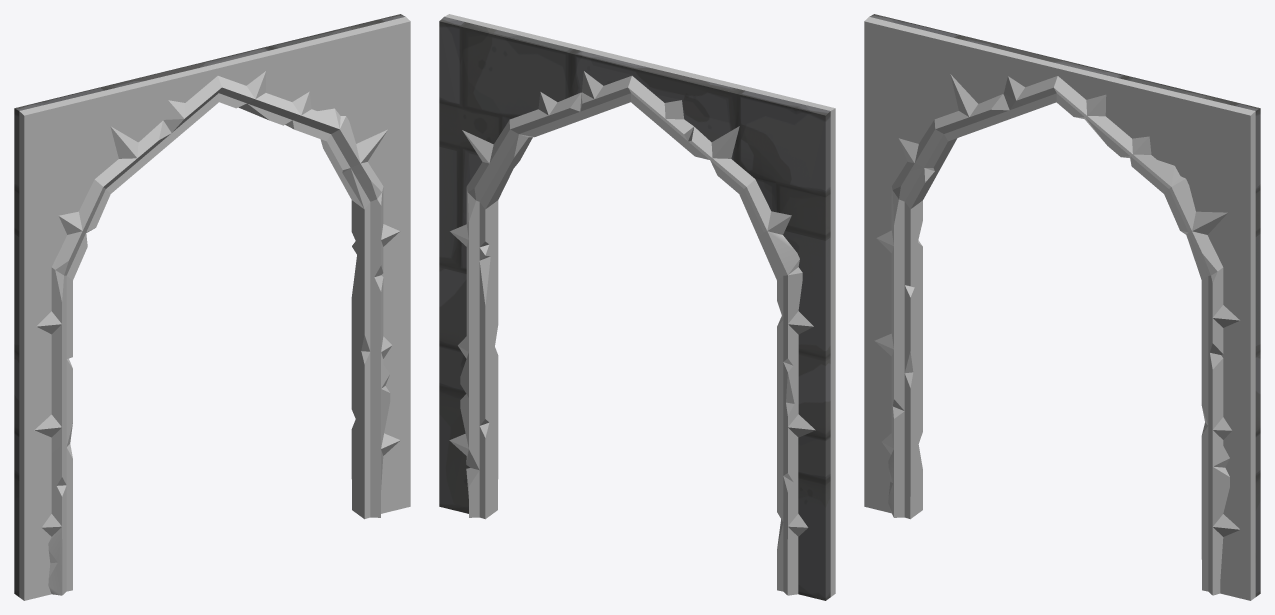
File: SM_Bld_Wall_Door_Large_03.fbx
3 views of the same model, side by side, from view 1: azimuth 30°, elevation 25°; view 2: azimuth 150°, elevation 25°; view 3: azimuth 330°, elevation 25° (orthographic).
Visible parts, largest first — view 1: SM_Bld_Wall_Door_Large_03; view 2: SM_Bld_Wall_Door_Large_03; view 3: SM_Bld_Wall_Door_Large_03.
Part boxes in pixels (x1,y1,x2,y2): SM_Bld_Wall_Door_Large_03: (14,14,410,600); SM_Bld_Wall_Door_Large_03: (439,14,835,600); SM_Bld_Wall_Door_Large_03: (864,14,1260,600).
Size of the model in its own units: 500 by 602 by 41.41.
